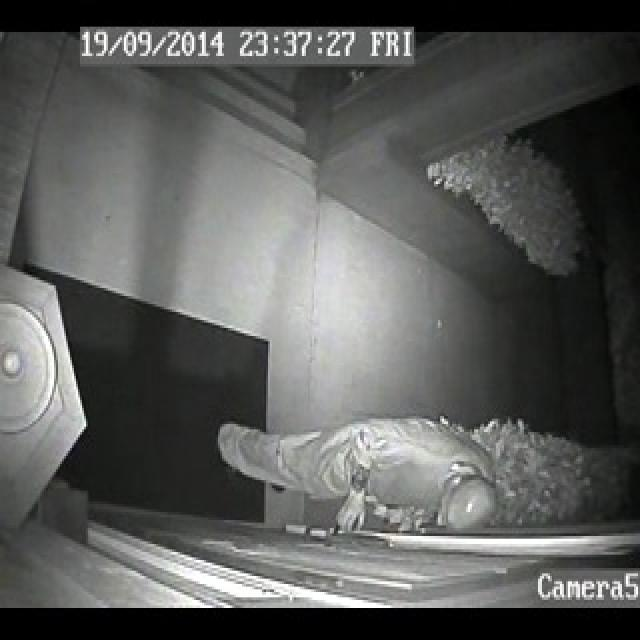burglary: (269, 411, 512, 568)
